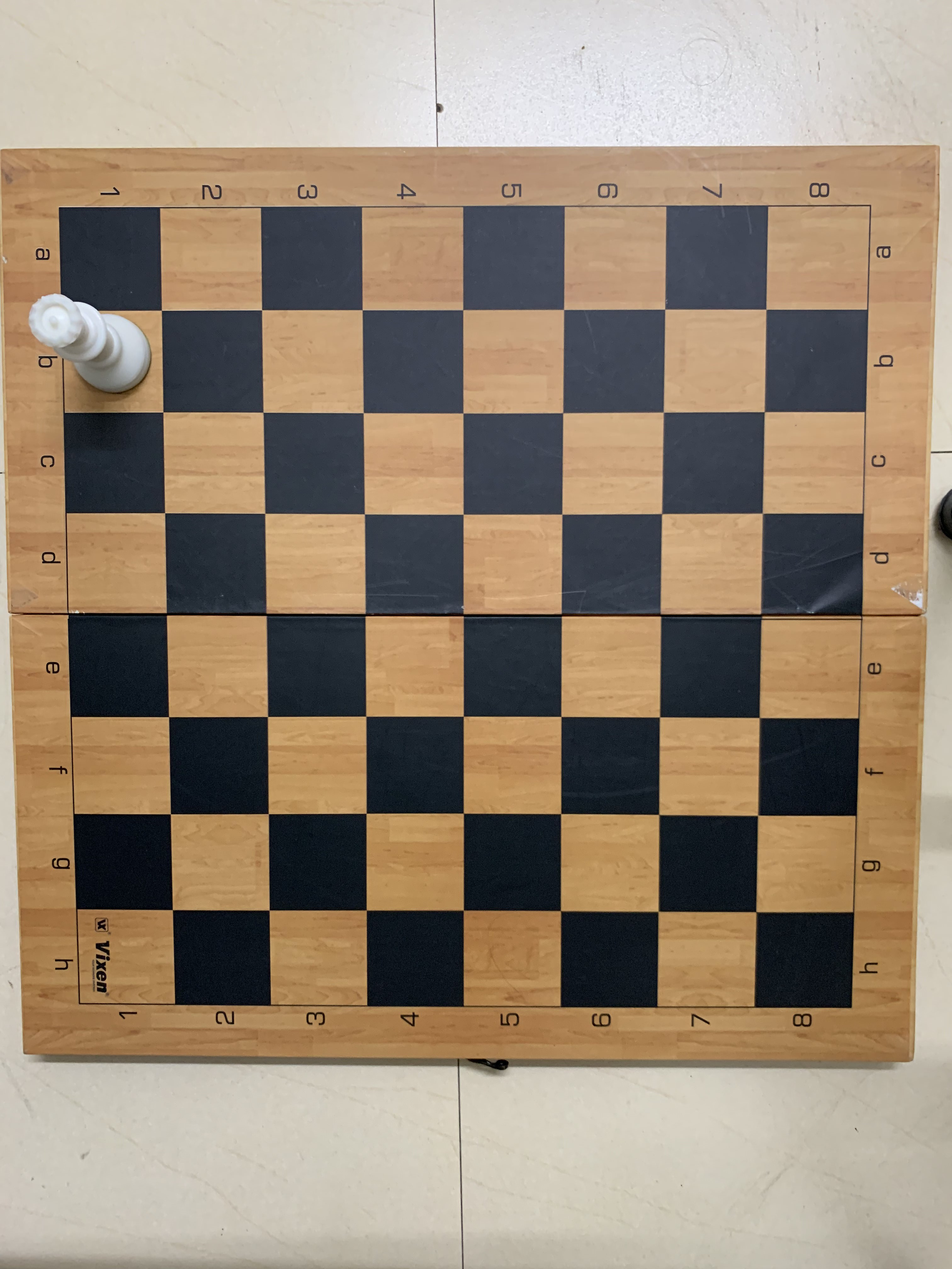white_queen: (18, 294, 165, 408)
